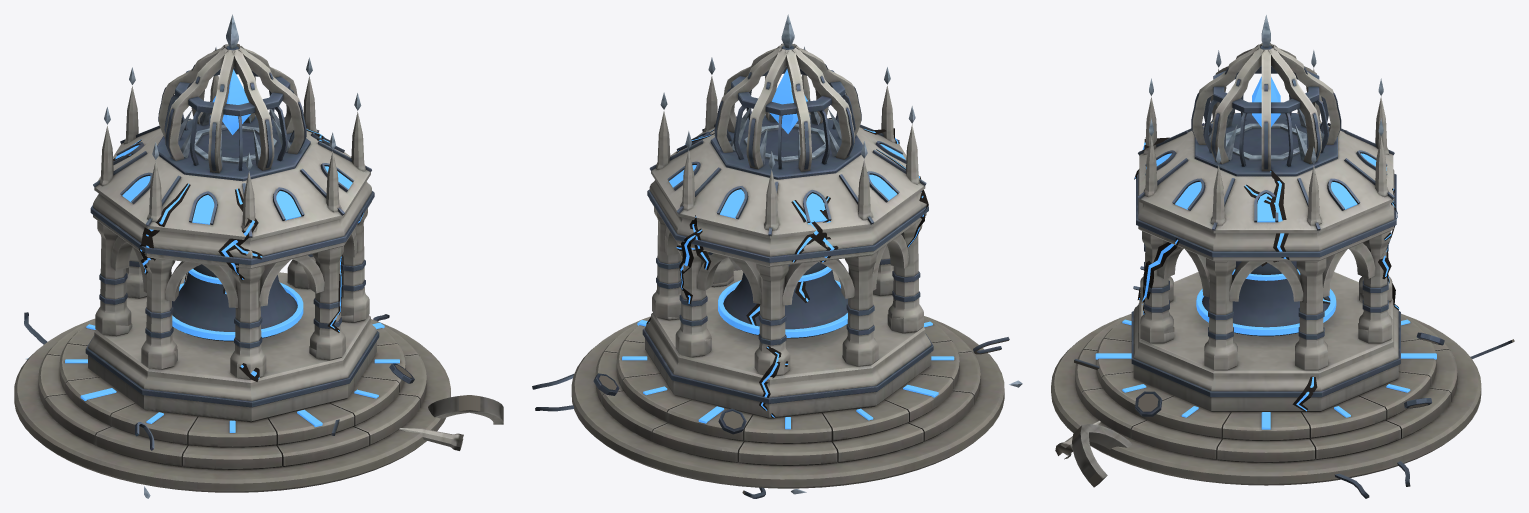
The model's file is hourbell_aubade.glb.
3 views of the same model, side by side, from view 1: azimuth 30°, elevation 25°; view 2: azimuth 150°, elevation 25°; view 3: azimuth 270°, elevation 25° (orthographic).
Visible parts, largest first — view 1: hourbell_aubade_upper, hourbell_aubade_base, hourbell_aubade_ruin, hourbell_aubade_glow.001, hourbell_aubade_dmg2, hourbell_aubade_glow_base, hourbell_aubade_core, hourbell_aubade_chip1; view 2: hourbell_aubade_upper, hourbell_aubade_base, hourbell_aubade_glow.001, hourbell_aubade_ruin, hourbell_aubade_dmg2, hourbell_aubade_dmg1, hourbell_aubade_glow_base, hourbell_aubade_core, hourbell_aubade_chip1; view 3: hourbell_aubade_upper, hourbell_aubade_base, hourbell_aubade_ruin, hourbell_aubade_glow.001, hourbell_aubade_dmg2, hourbell_aubade_glow_base, hourbell_aubade_chip1, hourbell_aubade_dmg1, hourbell_aubade_core.
Part boxes in pixels (x1=…): hourbell_aubade_upper: x1=85, y1=44, x2=379, y2=422; hourbell_aubade_base: x1=14, y1=318, x2=450, y2=492; hourbell_aubade_ruin: x1=24, y1=282, x2=503, y2=498; hourbell_aubade_glow.001: x1=115, y1=139, x2=352, y2=340; hourbell_aubade_dmg2: x1=113, y1=129, x2=363, y2=381; hourbell_aubade_glow_base: x1=65, y1=322, x2=399, y2=432; hourbell_aubade_core: x1=212, y1=69, x2=250, y2=134; hourbell_aubade_chip1: x1=215, y1=14, x2=361, y2=192; hourbell_aubade_upper: x1=642, y1=43, x2=933, y2=418; hourbell_aubade_base: x1=571, y1=316, x2=1004, y2=488; hourbell_aubade_glow.001: x1=669, y1=136, x2=905, y2=337; hourbell_aubade_ruin: x1=532, y1=257, x2=1022, y2=498; hourbell_aubade_dmg2: x1=676, y1=128, x2=928, y2=325; hourbell_aubade_dmg1: x1=646, y1=196, x2=830, y2=418; hourbell_aubade_glow_base: x1=622, y1=320, x2=954, y2=429; hourbell_aubade_core: x1=770, y1=69, x2=807, y2=133; hourbell_aubade_chip1: x1=660, y1=14, x2=794, y2=190; hourbell_aubade_upper: x1=1131, y1=43, x2=1400, y2=411; hourbell_aubade_base: x1=1051, y1=313, x2=1481, y2=485; hourbell_aubade_ruin: x1=1055, y1=266, x2=1514, y2=498; hourbell_aubade_glow.001: x1=1146, y1=153, x2=1386, y2=335; hourbell_aubade_dmg2: x1=1134, y1=121, x2=1397, y2=314; hourbell_aubade_glow_base: x1=1095, y1=319, x2=1436, y2=429; hourbell_aubade_chip1: x1=1172, y1=15, x2=1383, y2=210; hourbell_aubade_dmg1: x1=1292, y1=130, x2=1399, y2=411; hourbell_aubade_core: x1=1252, y1=76, x2=1280, y2=126.
Bounding box in the file's own units: 5.66 × 5.34 × 5.82.
4 materials, 1 textured.
